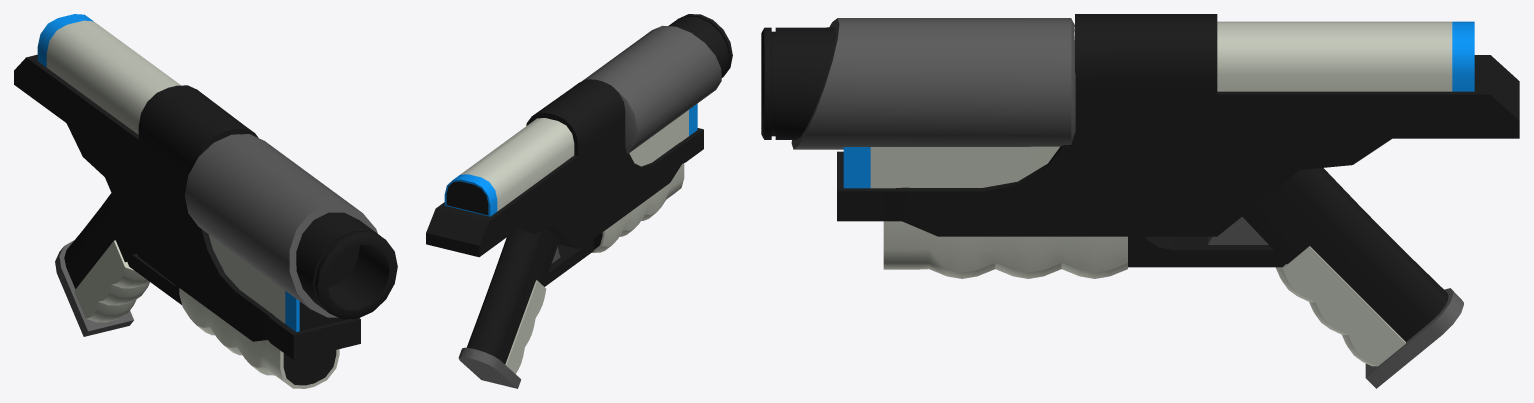
File: Gun.fbx
3 renders of one model, left to right at view 1: azimuth 30°, elevation 25°; view 2: azimuth 150°, elevation 25°; view 3: azimuth 270°, elevation 25°, orthographic. The views are drawn at different scales.
Parts seen in each view (by area): view 1: Gun; view 2: Gun; view 3: Gun.
Part boxes in pixels (<box>): Gun: <box>14,14,397,388</box>; Gun: <box>426,14,732,388</box>; Gun: <box>761,14,1519,388</box>.
Bounding box in the file's own units: 34.72 × 103 × 200.
